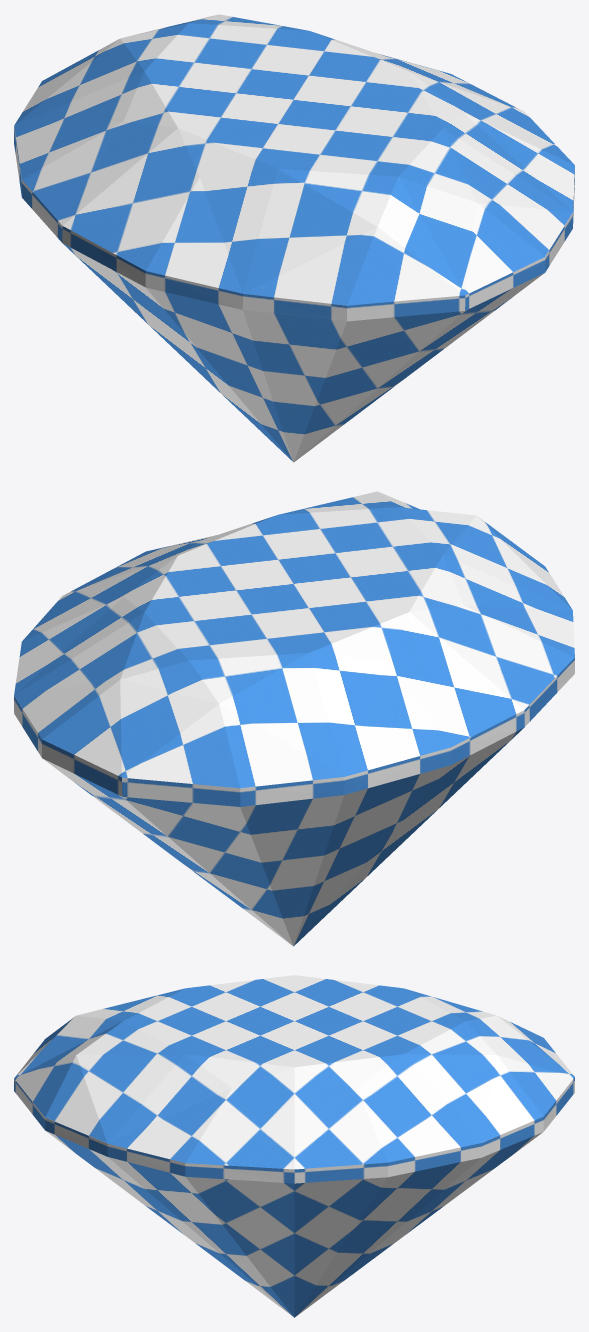
The model's file is MarquiseCutPointy.FBX.
3 views of the same model, one above another, from view 1: azimuth 30°, elevation 25°; view 2: azimuth 150°, elevation 25°; view 3: azimuth 270°, elevation 25° (orthographic). The views are drawn at different scales.
Visible parts, largest first — view 1: MarquiseCutPointy; view 2: MarquiseCutPointy; view 3: MarquiseCutPointy.
Part boxes in pixels (x1,y1,x2,y2): MarquiseCutPointy: [14, 14, 574, 462]; MarquiseCutPointy: [14, 491, 574, 946]; MarquiseCutPointy: [14, 975, 574, 1317].
Bounding box in the file's own units: 0.8894 × 0.6667 × 1.14.
